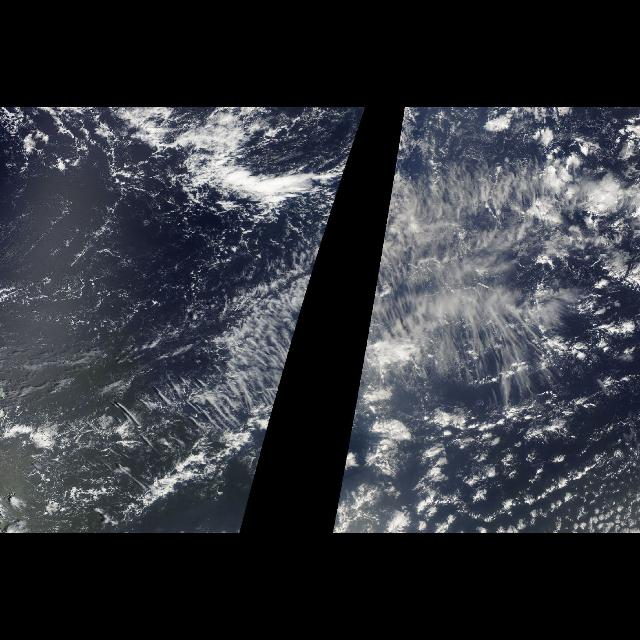Gravel: (14, 118, 246, 218)
Sugar: (1, 165, 216, 408)
